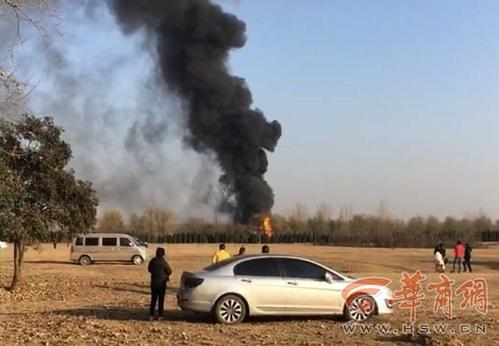smoke: (109, 1, 280, 220)
